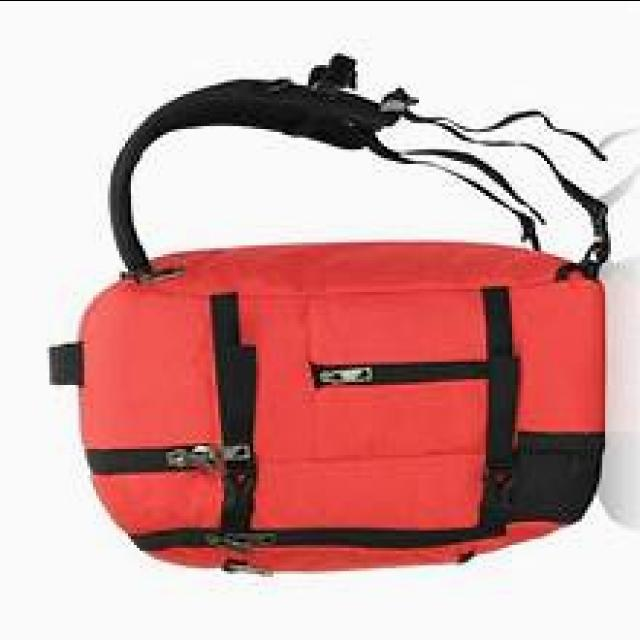backpack: (48, 56, 610, 580)
